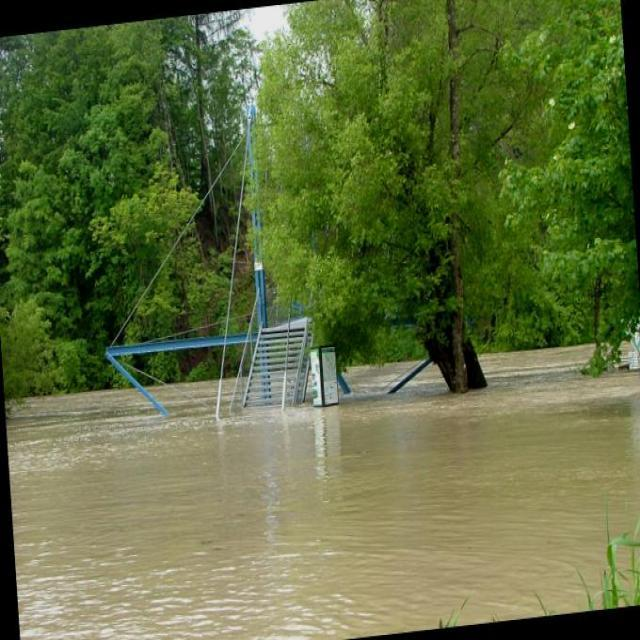flood: (5, 332, 639, 639)
